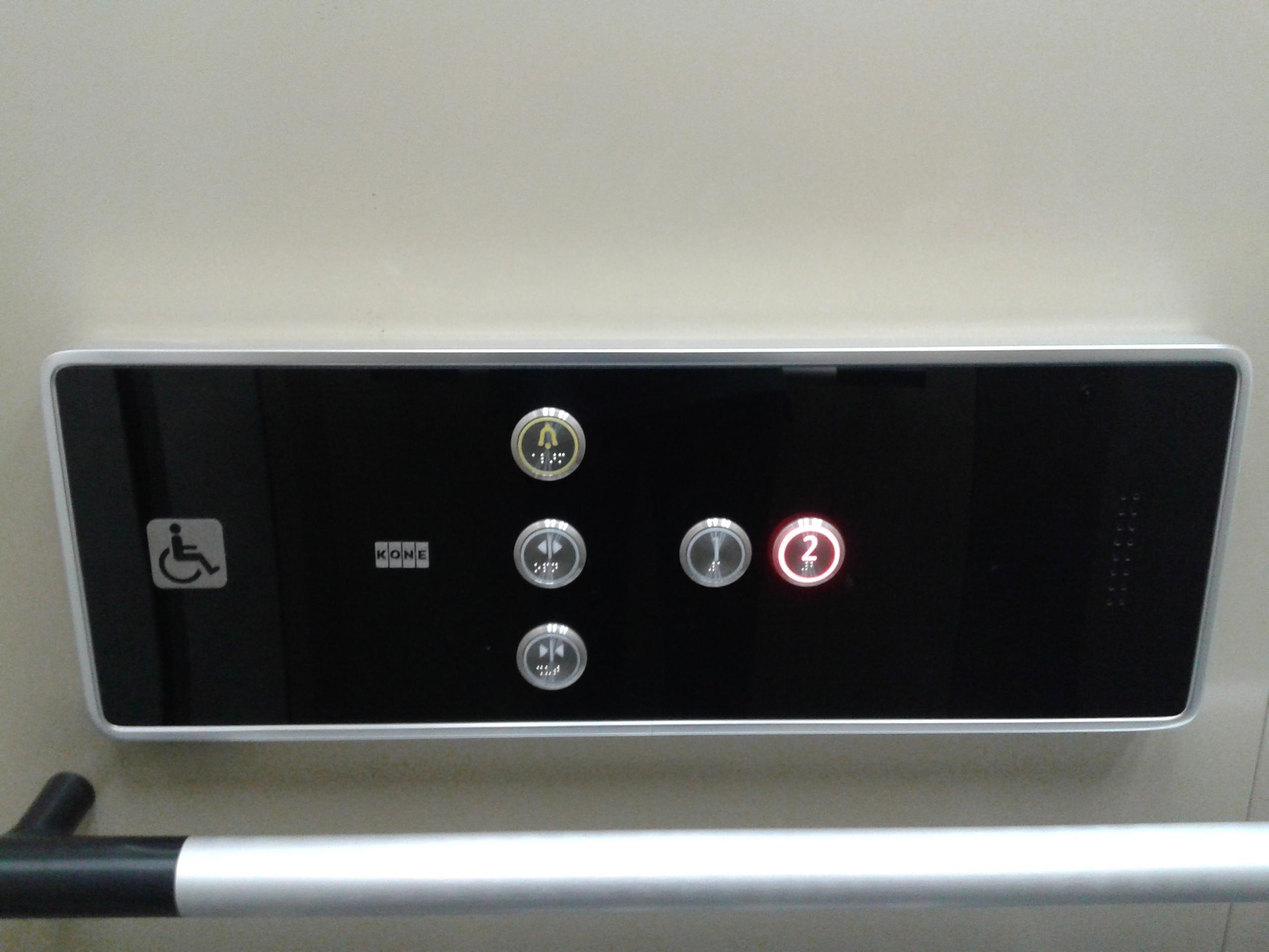1: (676, 513, 756, 590)
2: (766, 513, 847, 590)
alarm: (506, 403, 587, 482)
close: (513, 618, 589, 694)
open: (512, 514, 589, 591)
unknown: (144, 514, 231, 593)
